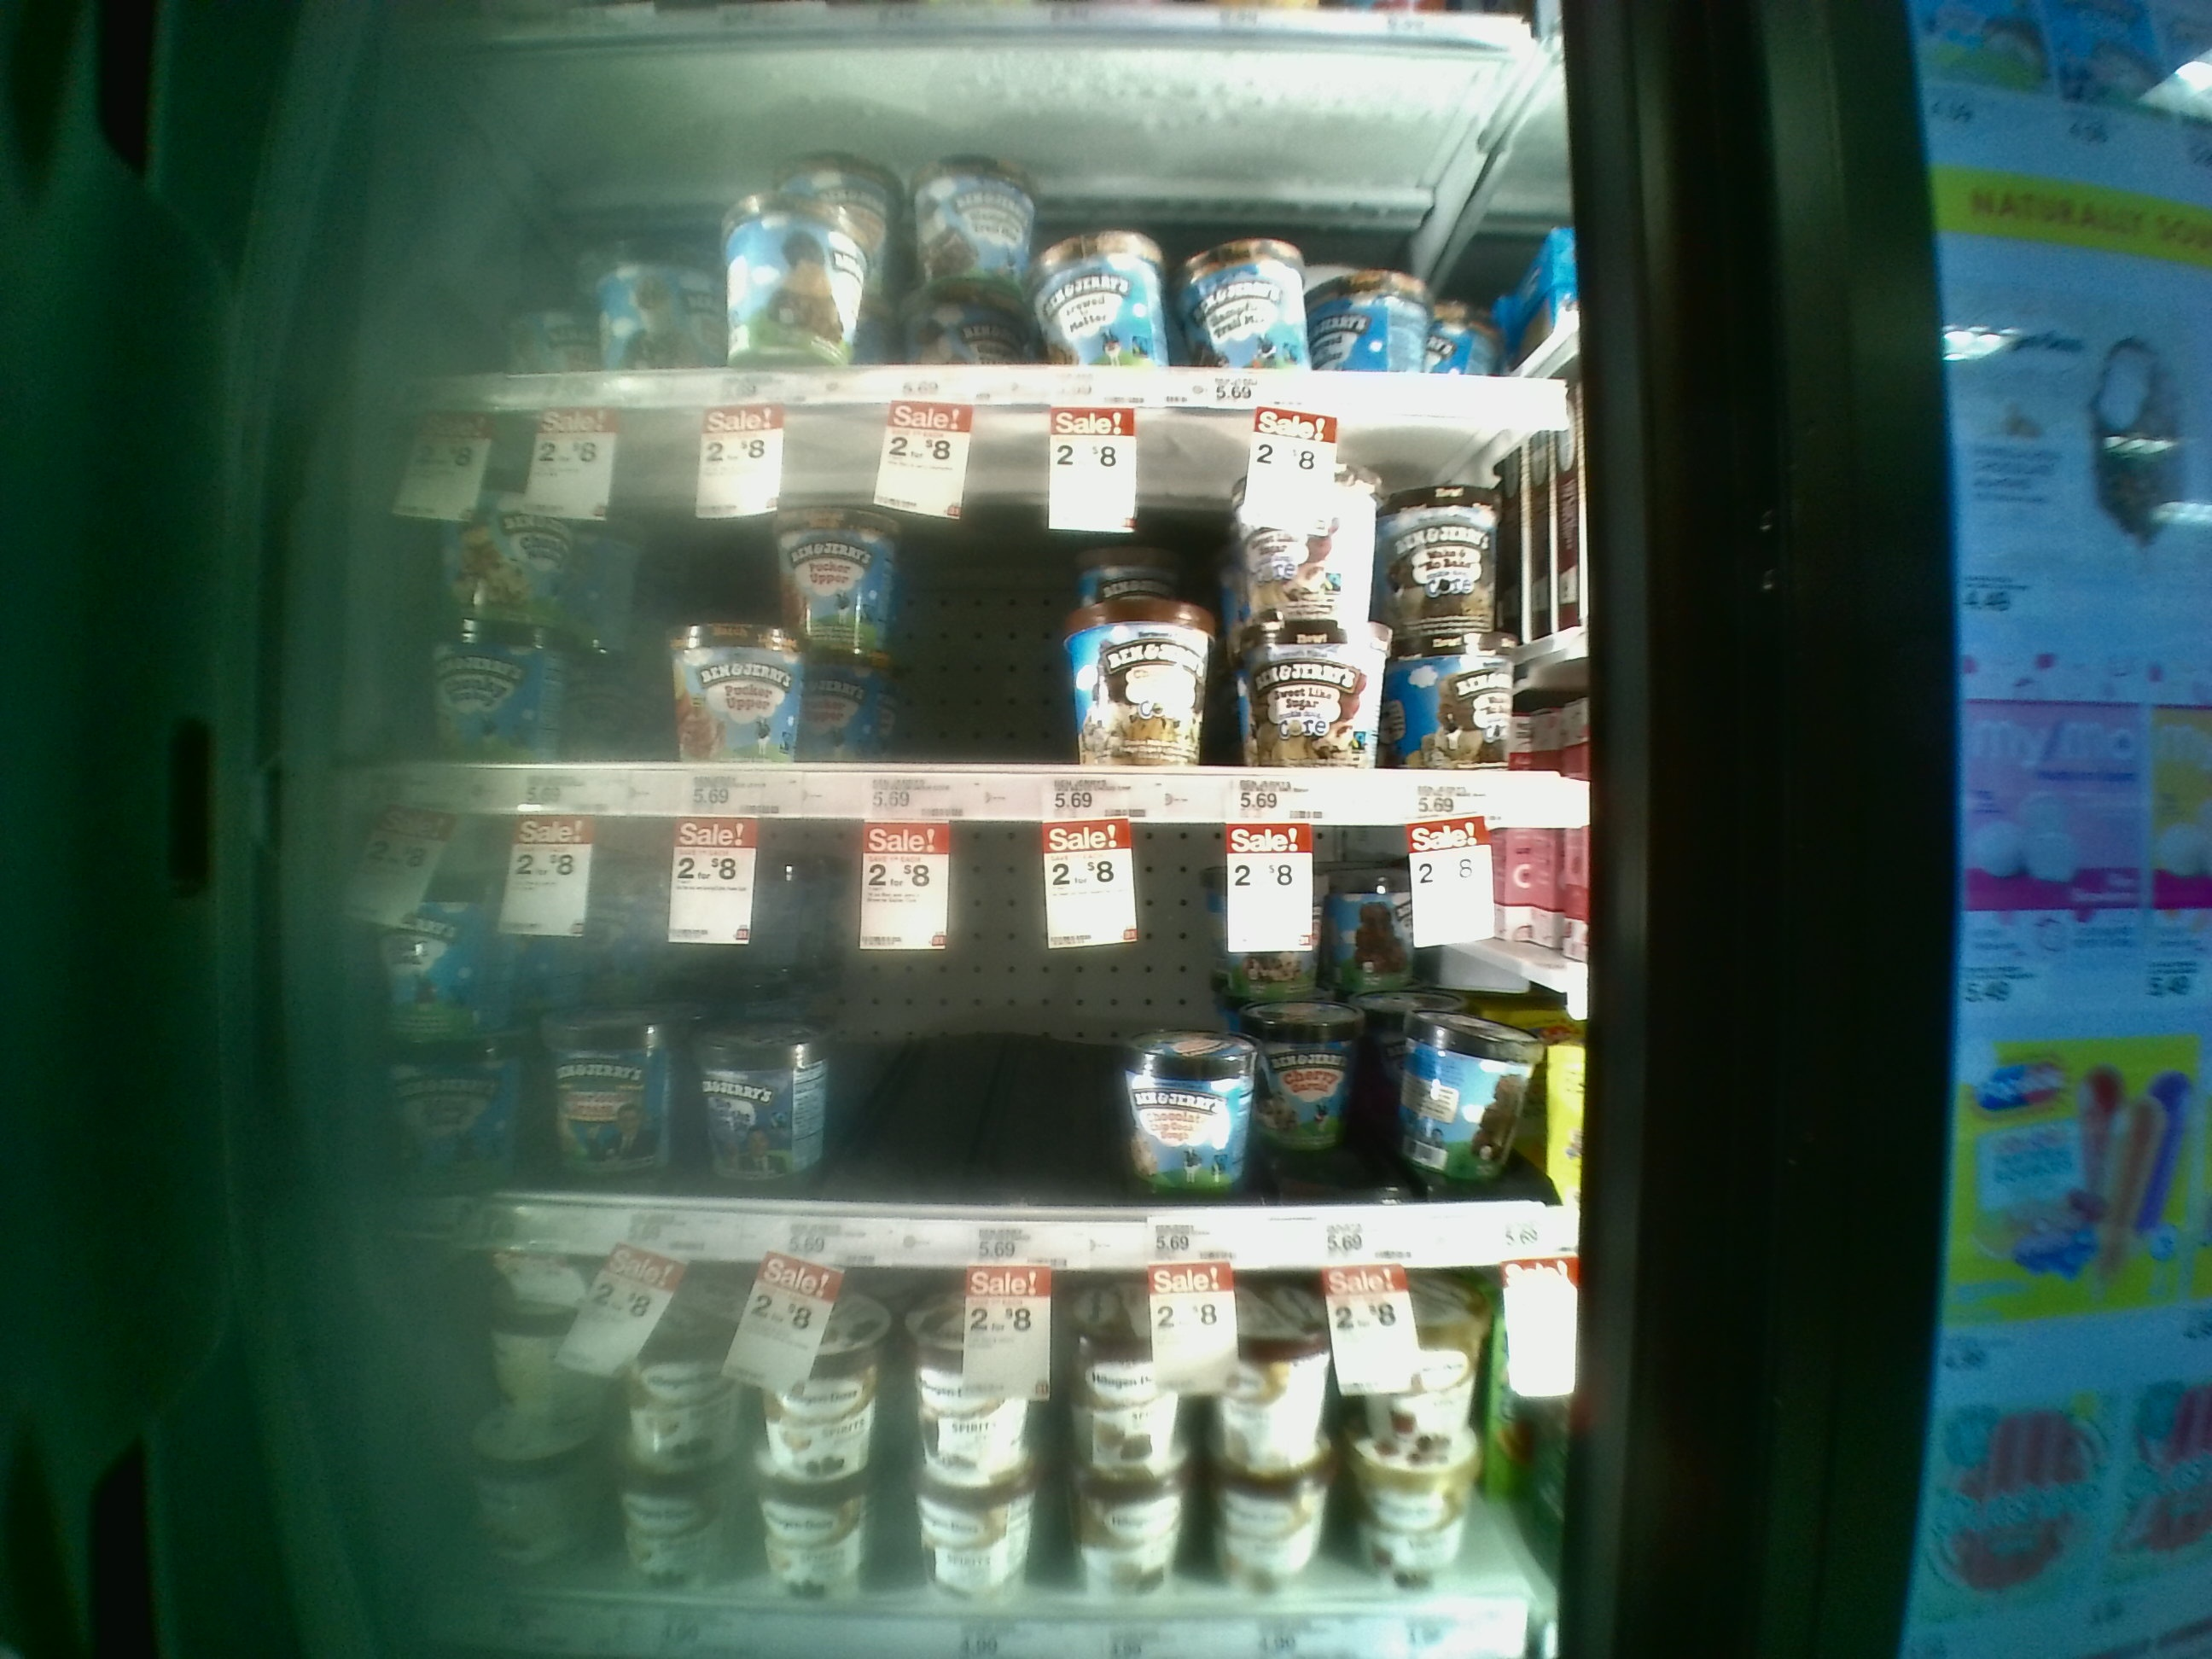ice-cream-shelf: (350, 819, 1569, 1270), (348, 425, 1581, 824)
